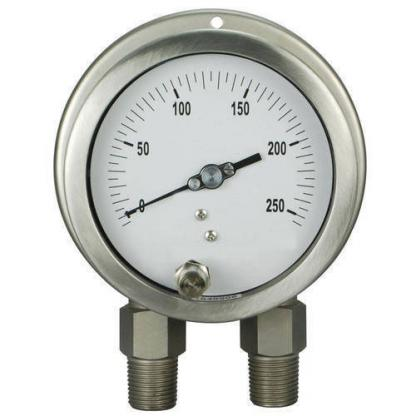needle: (126, 183, 190, 216)
